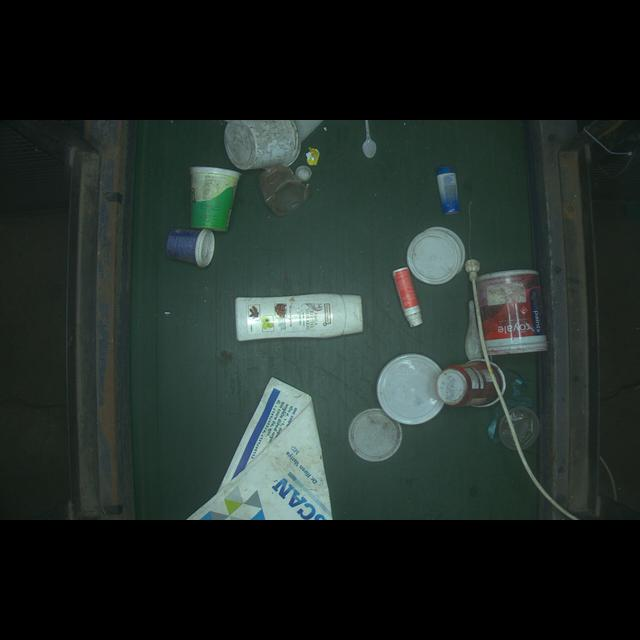PP: (470, 261, 554, 358), (185, 160, 242, 239)
